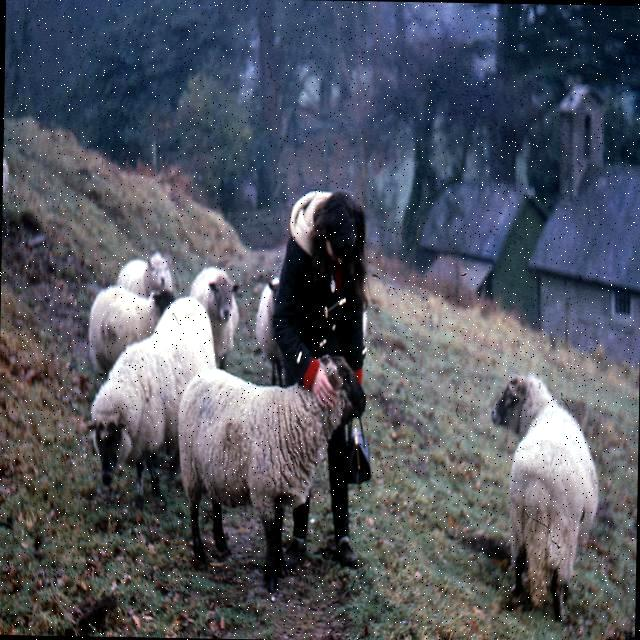sheep: (492, 374, 596, 620)
